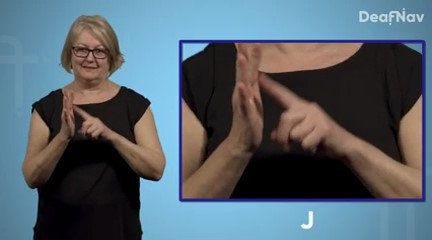J: (55, 88, 115, 150)
